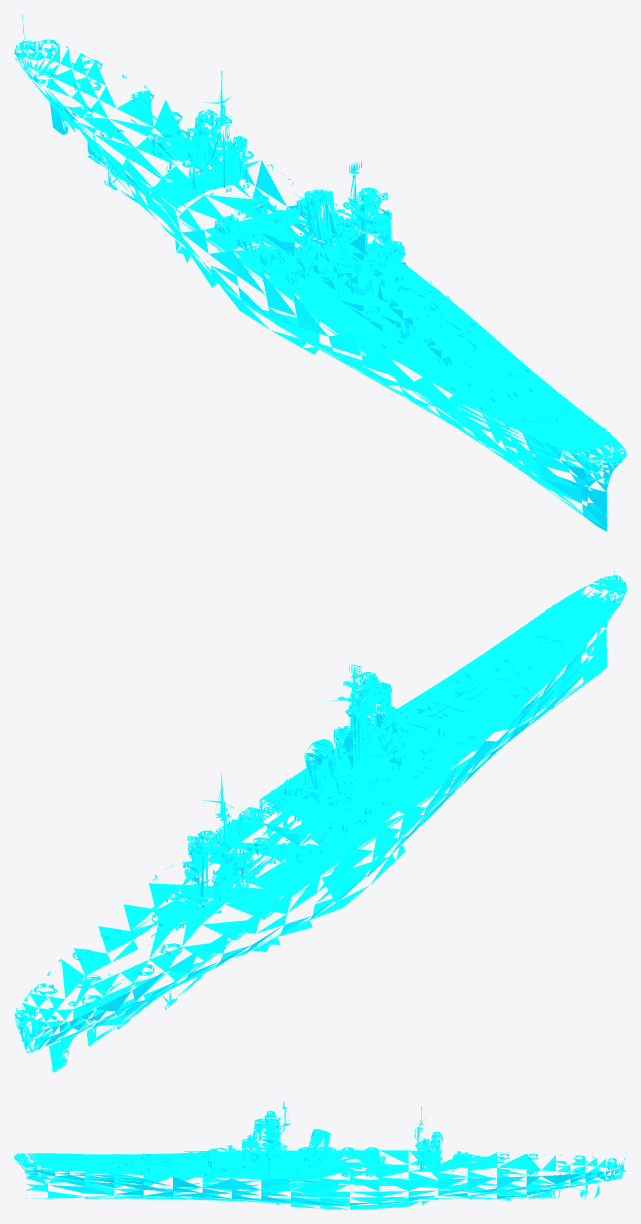
The model's file is PJSC519.glb.
3 views of the same model, one above another, from view 1: azimuth 30°, elevation 25°; view 2: azimuth 150°, elevation 25°; view 3: azimuth 270°, elevation 25° (orthographic). The views are drawn at different scales.
Visible parts, largest first — view 1: hull, turret; view 2: hull, turret; view 3: hull, turret.
Boxes of the visible parts, x1,y1,x2,y2 form: hull: [14, 14, 626, 531]; turret: [130, 114, 499, 375]; hull: [14, 571, 626, 1072]; turret: [131, 675, 500, 937]; hull: [14, 1101, 626, 1209]; turret: [145, 1145, 504, 1177].
Size of the model in its own units: 1.99 by 2.99 by 17.34.
